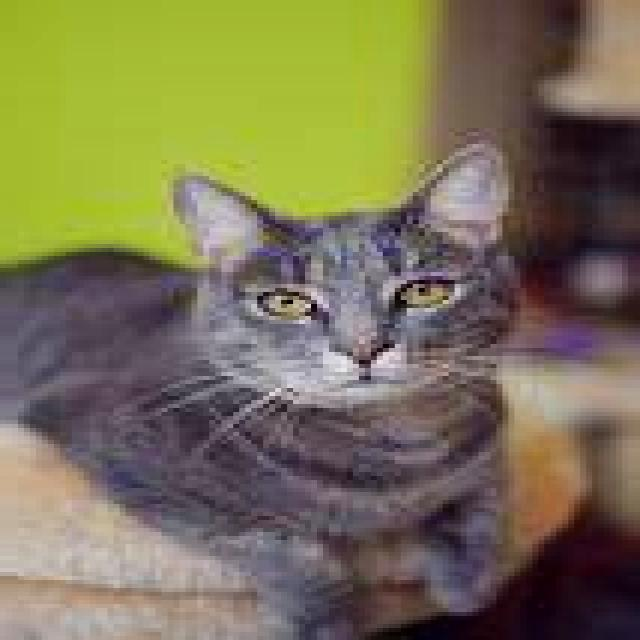KEDI: (4, 144, 534, 640)
